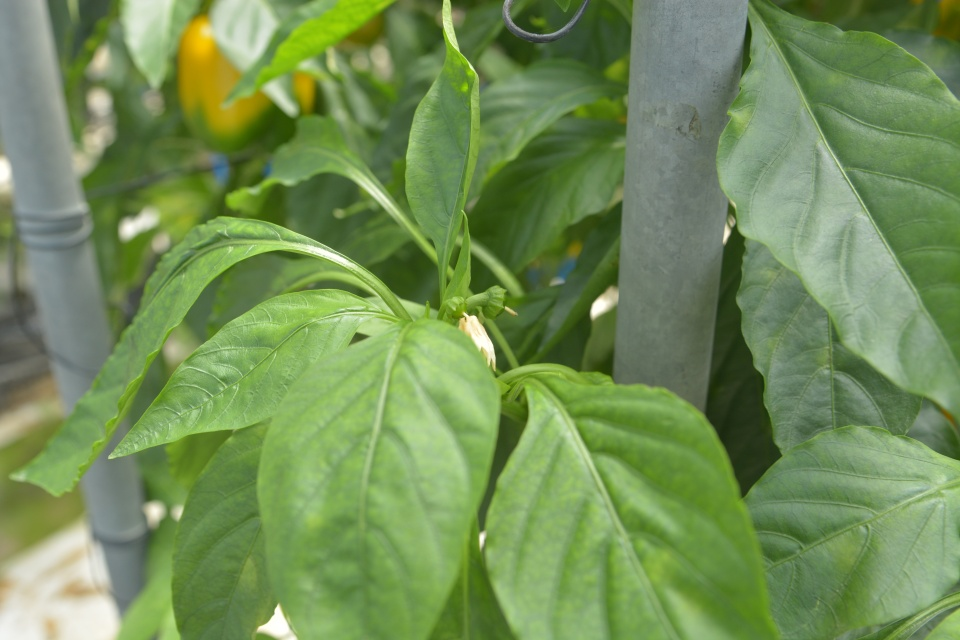flower: (454, 309, 501, 373)
fruit: (174, 10, 318, 154)
